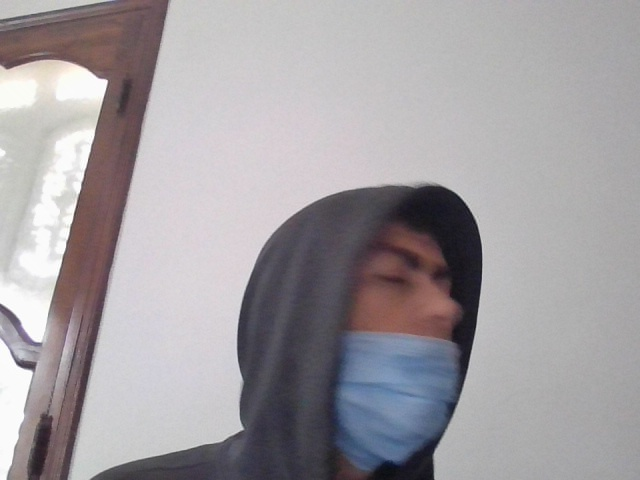mask_weared_incorrect: (320, 193, 473, 470)
